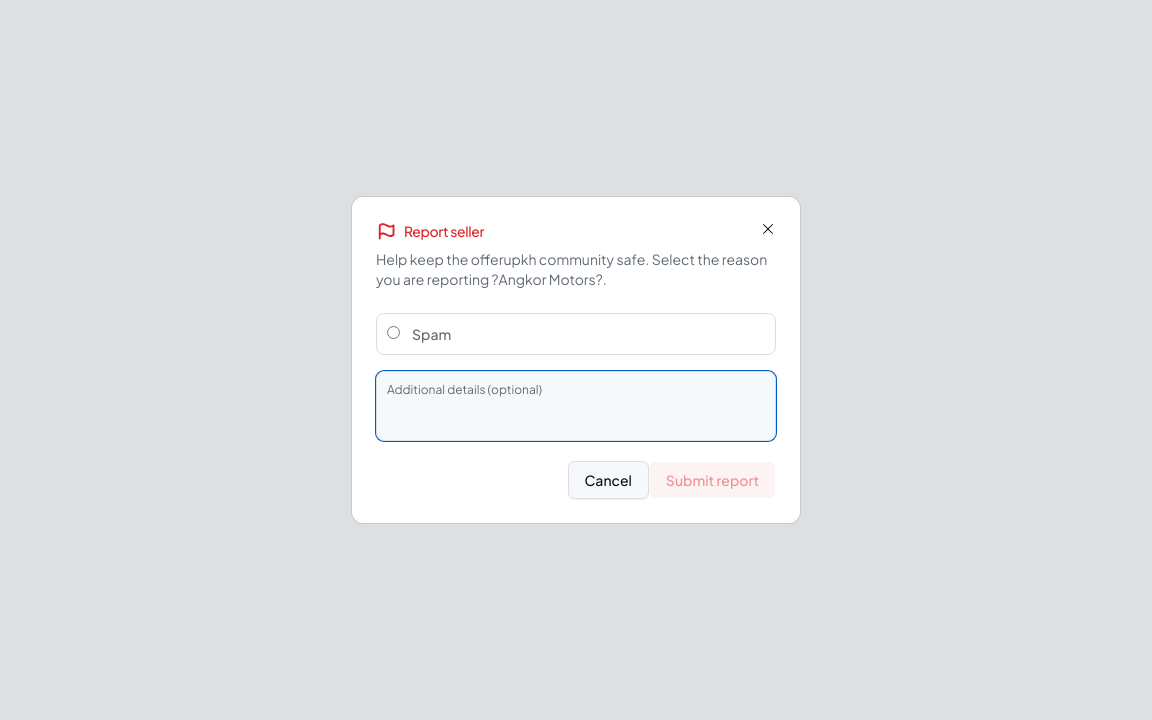
Test: report seller › shows the backend message on a duplicate report
The image size is (1152, 720).
What coordinates should you click on to do the following:
click the radio button labelled "Spam"
I would click on:
 (394, 332)
Its box is [387,326,400,339].
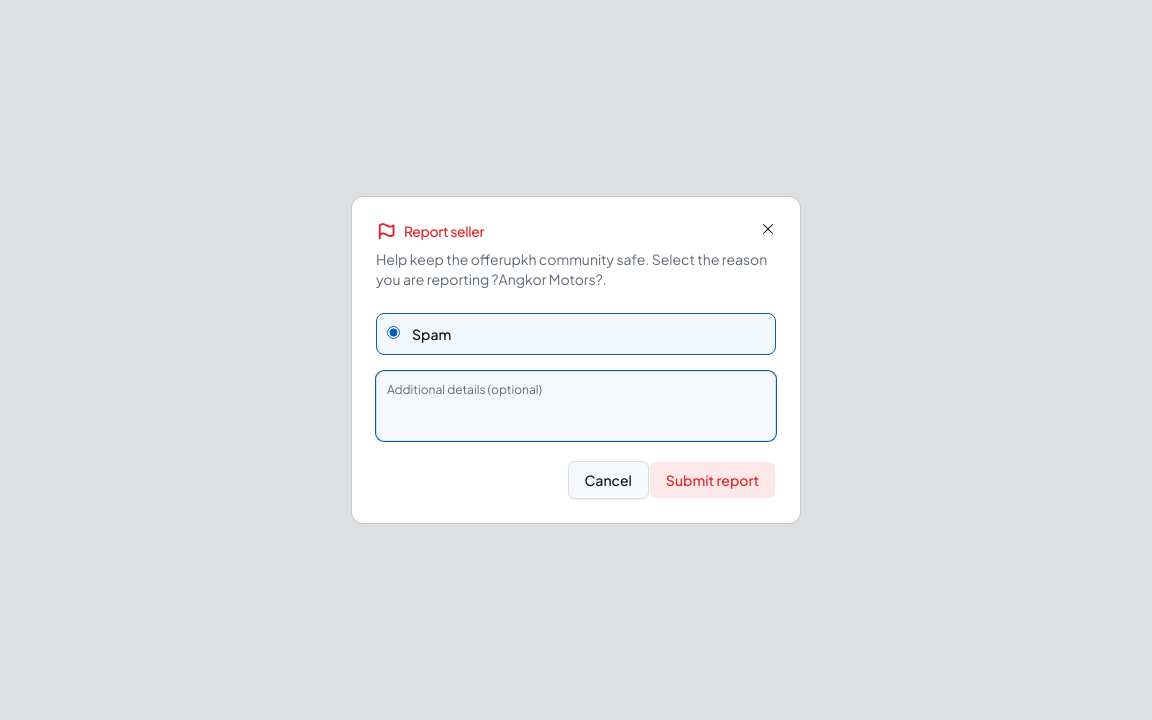
What coordinates should you click on to do the following:
click the button "Submit report"
I would click on:
 (712, 480)
Its box is [649,461,776,499].
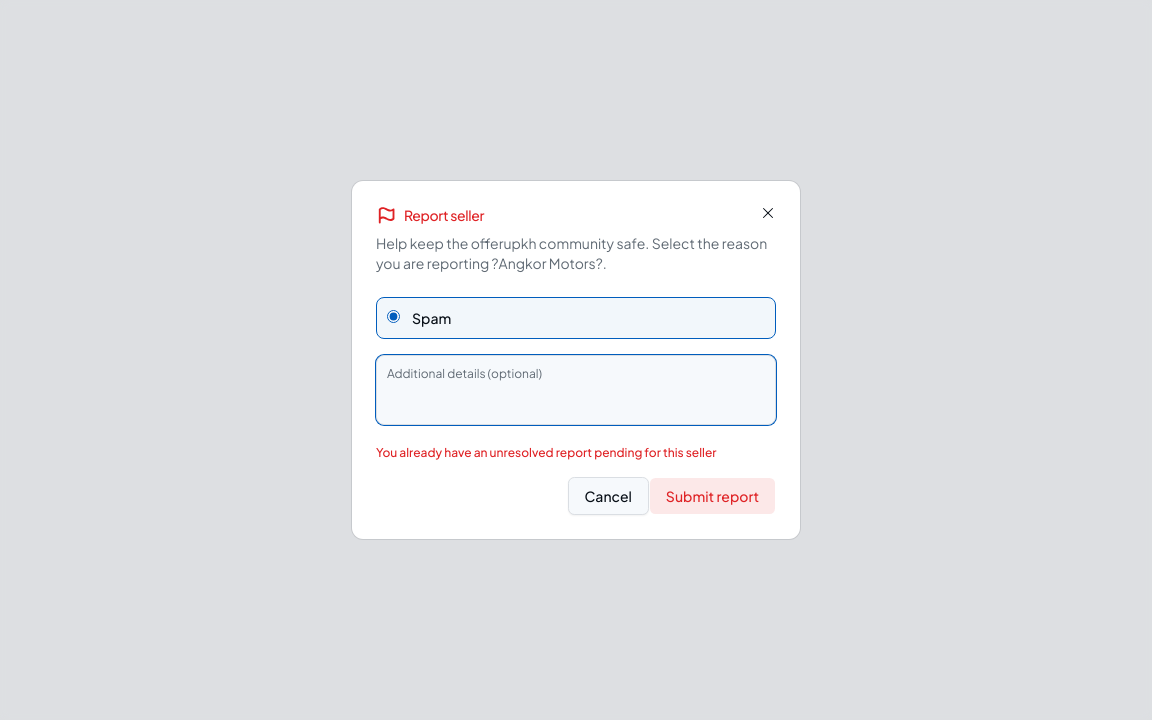
Expected: the message shows "already have an unresolved report", [376,445,716,460]
